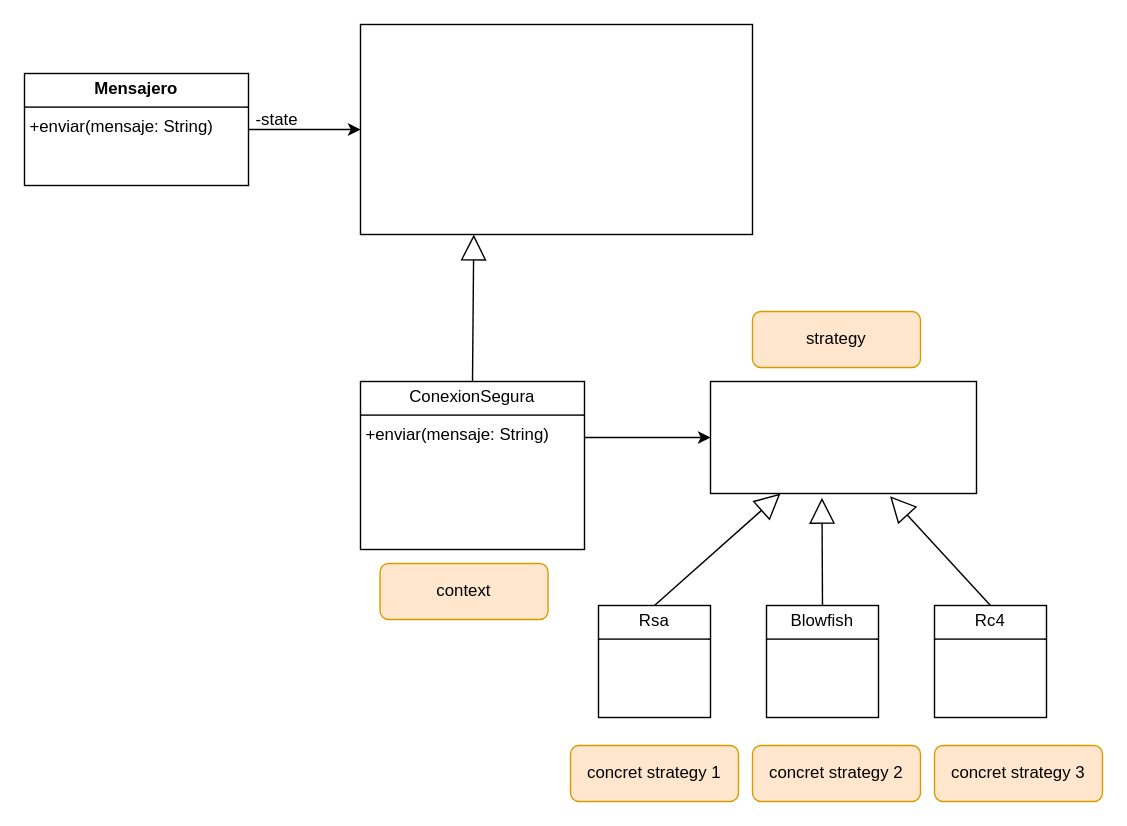
Some shapes in this 1127 by 826 pixel diagram are drawn without their labels. The shapes that lost their labels are listed below. From the top down, each one's centre as x and y in pixels, then its label:
At (x=555, y=128): "<abstract> Conexion +enviar(mensaje: String)".
At (x=842, y=436): "<abstract> EncriptadorStrategy +encriptar(mensaje: String): String".
